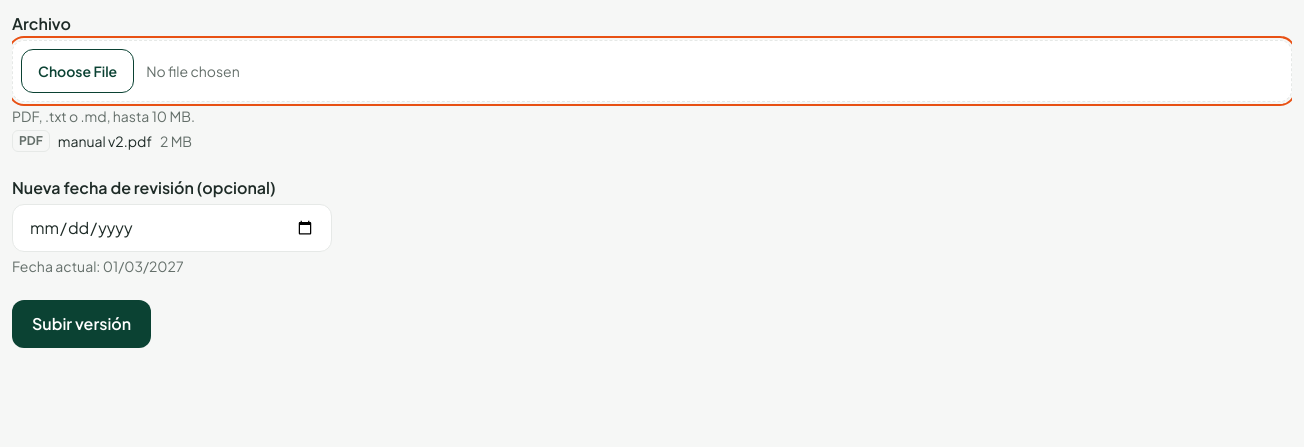
NewVersionForm (spec 003, R6 a R9; plan 003, 6.3) › errores de la API: el archivo sigue elegido › E5: 503 → "Probá de nuevo en unos minutos" y el mismo archivo sigue en el campo
Earlier steps of the test are not shown.
Click the button "Subir versión".
click(82, 324)  # box [12,300,151,348]
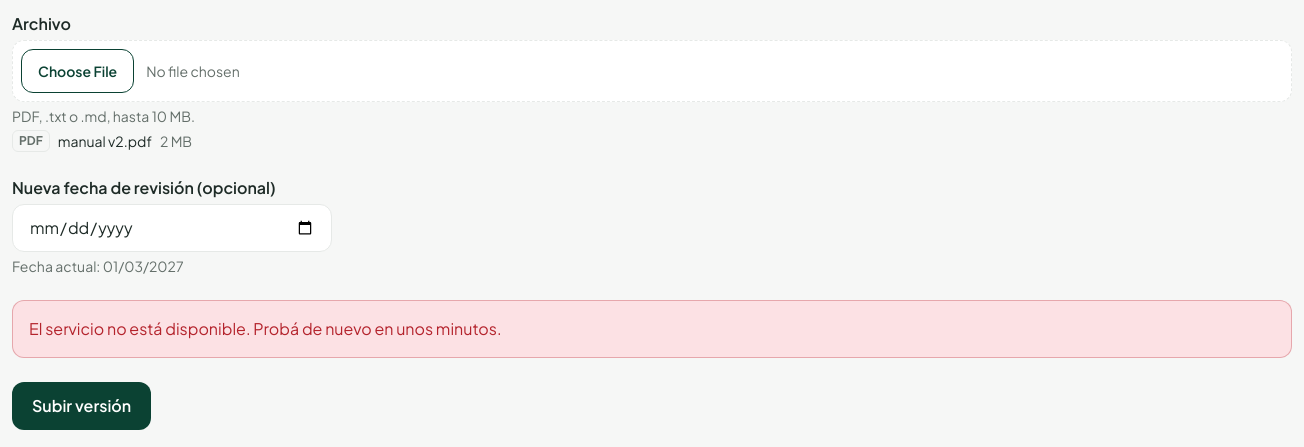
Check: the button "Subir versión" is enabled, box [12,382,151,430]
Check: the message shows "Probá de nuevo en unos minutos", box [29,318,502,339]
